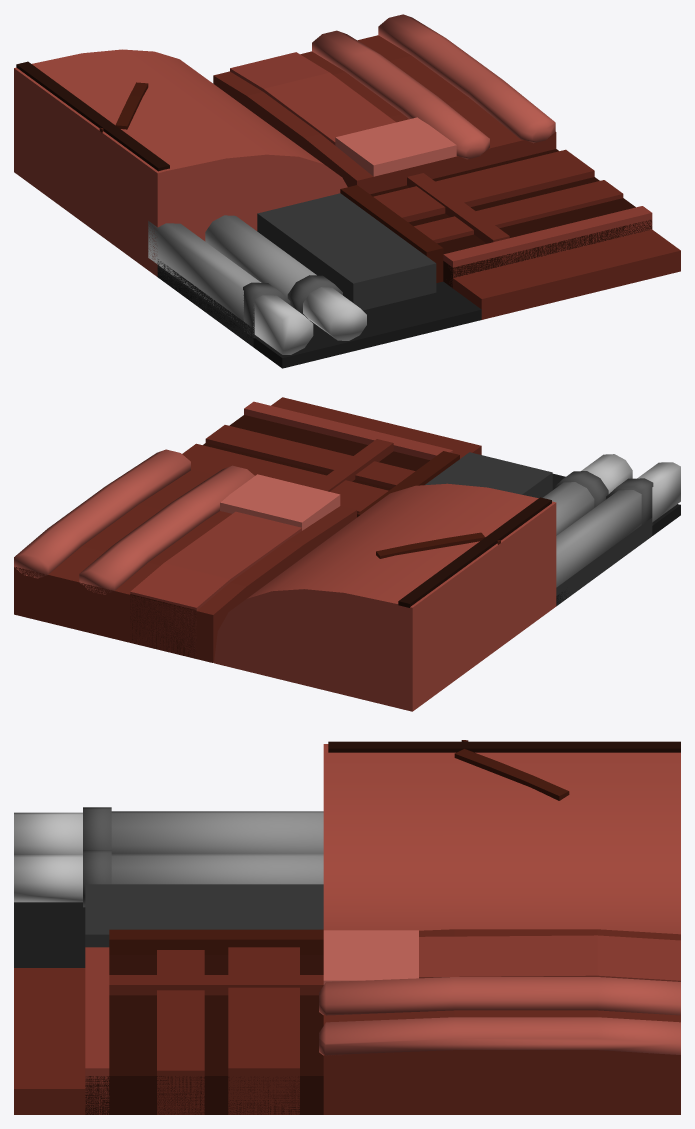
File: newshf-197.glb
The picture shows the model from 3 angles, top to bottom: view 1: azimuth 30°, elevation 25°; view 2: azimuth 150°, elevation 25°; view 3: azimuth 270°, elevation 25°; orthographic projection. The views are drawn at different scales.
Parts seen in each view (by area): view 1: newshf-197; view 2: newshf-197; view 3: newshf-197.
Part boxes in pixels (left/top/right/bottom): newshf-197: left=14, top=14, right=680, bottom=368; newshf-197: left=14, top=397, right=680, bottom=711; newshf-197: left=14, top=740, right=680, bottom=1114.
Bounding box in the file's own units: 2 × 0.5139 × 2.33.
